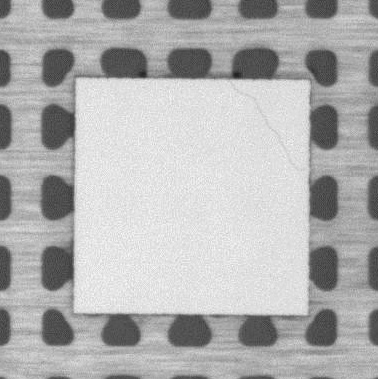DIE_CRACK: (229, 79, 306, 171)
